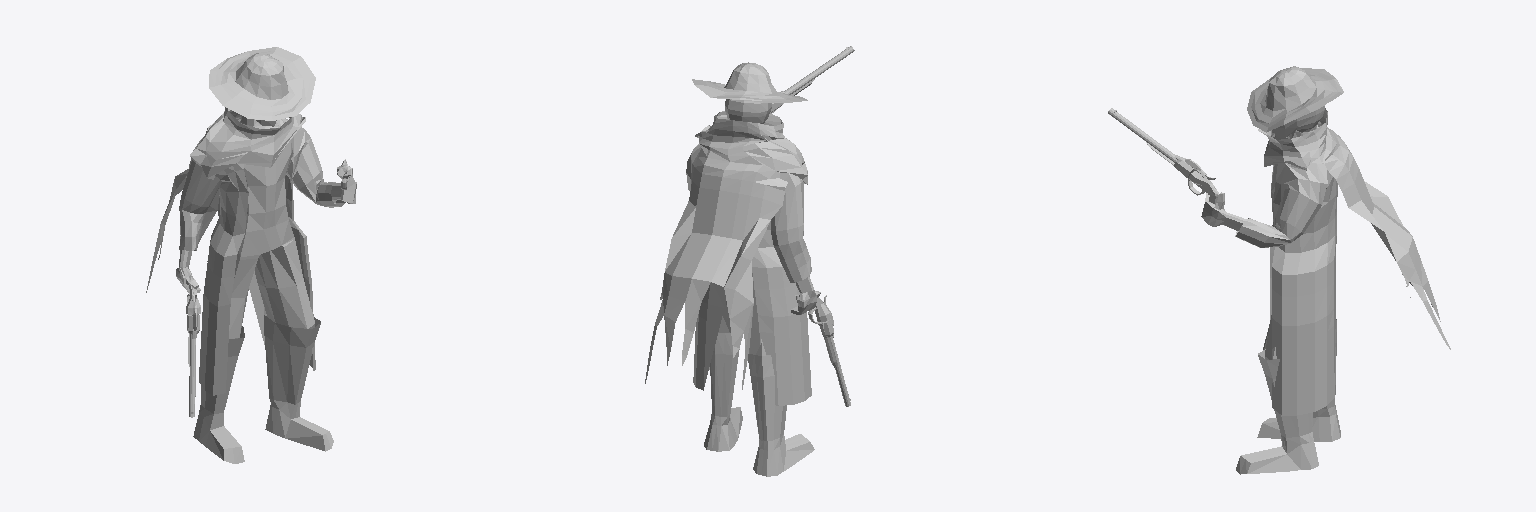
File: hatTip_1.obj
The picture shows the model from 3 angles: view 1: azimuth 30°, elevation 25°; view 2: azimuth 150°, elevation 25°; view 3: azimuth 270°, elevation 25°; orthographic projection.
Parts seen in each view (by area): view 1: Gunslinger_Clothing_Cube.004, Default_Body_Cube.003, Boots_Cube.008, Hat_Cube.005, Shemagh_Cube.009, Revolver_Model.001_Cube.007; view 2: Shemagh_Cube.009, Gunslinger_Clothing_Cube.004, Boots_Cube.008, Hat_Cube.005, Default_Body_Cube.003, Revolver_Model.001_Cube.007, Revolver_Model_Cube.006; view 3: Gunslinger_Clothing_Cube.004, Shemagh_Cube.009, Boots_Cube.008, Hat_Cube.005, Default_Body_Cube.003, Revolver_Model_Cube.006.
Part boxes in pixels (x1,y1,x2,y2): Gunslinger_Clothing_Cube.004: (179, 118, 345, 395); Default_Body_Cube.003: (176, 115, 356, 338); Boots_Cube.008: (193, 314, 333, 463); Hat_Cube.005: (209, 47, 315, 120); Shemagh_Cube.009: (146, 107, 305, 292); Revolver_Model.001_Cube.007: (186, 269, 200, 417); Shemagh_Cube.009: (645, 111, 807, 389); Gunslinger_Clothing_Cube.004: (686, 144, 811, 405); Boots_Cube.008: (704, 333, 814, 476); Hat_Cube.005: (692, 62, 807, 102); Default_Body_Cube.003: (718, 99, 820, 355); Revolver_Model.001_Cube.007: (795, 295, 850, 406); Revolver_Model_Cube.006: (770, 46, 854, 113); Gunslinger_Clothing_Cube.004: (1235, 125, 1337, 415); Shemagh_Cube.009: (1258, 108, 1450, 349); Boots_Cube.008: (1236, 319, 1340, 474); Hat_Cube.005: (1247, 66, 1343, 132); Default_Body_Cube.003: (1201, 86, 1324, 359); Revolver_Model_Cube.006: (1108, 108, 1218, 204).
Size of the model in its own units: 2.24 by 5.51 by 4.46.